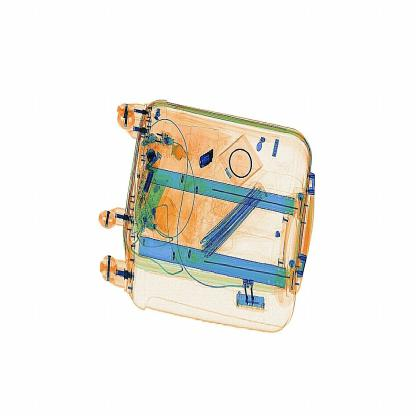knife: (194, 146, 212, 176)
